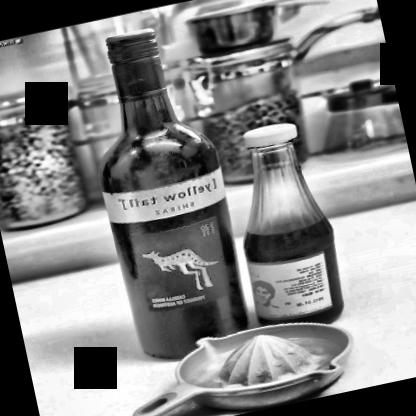yellowtail: (104, 167, 248, 321)
